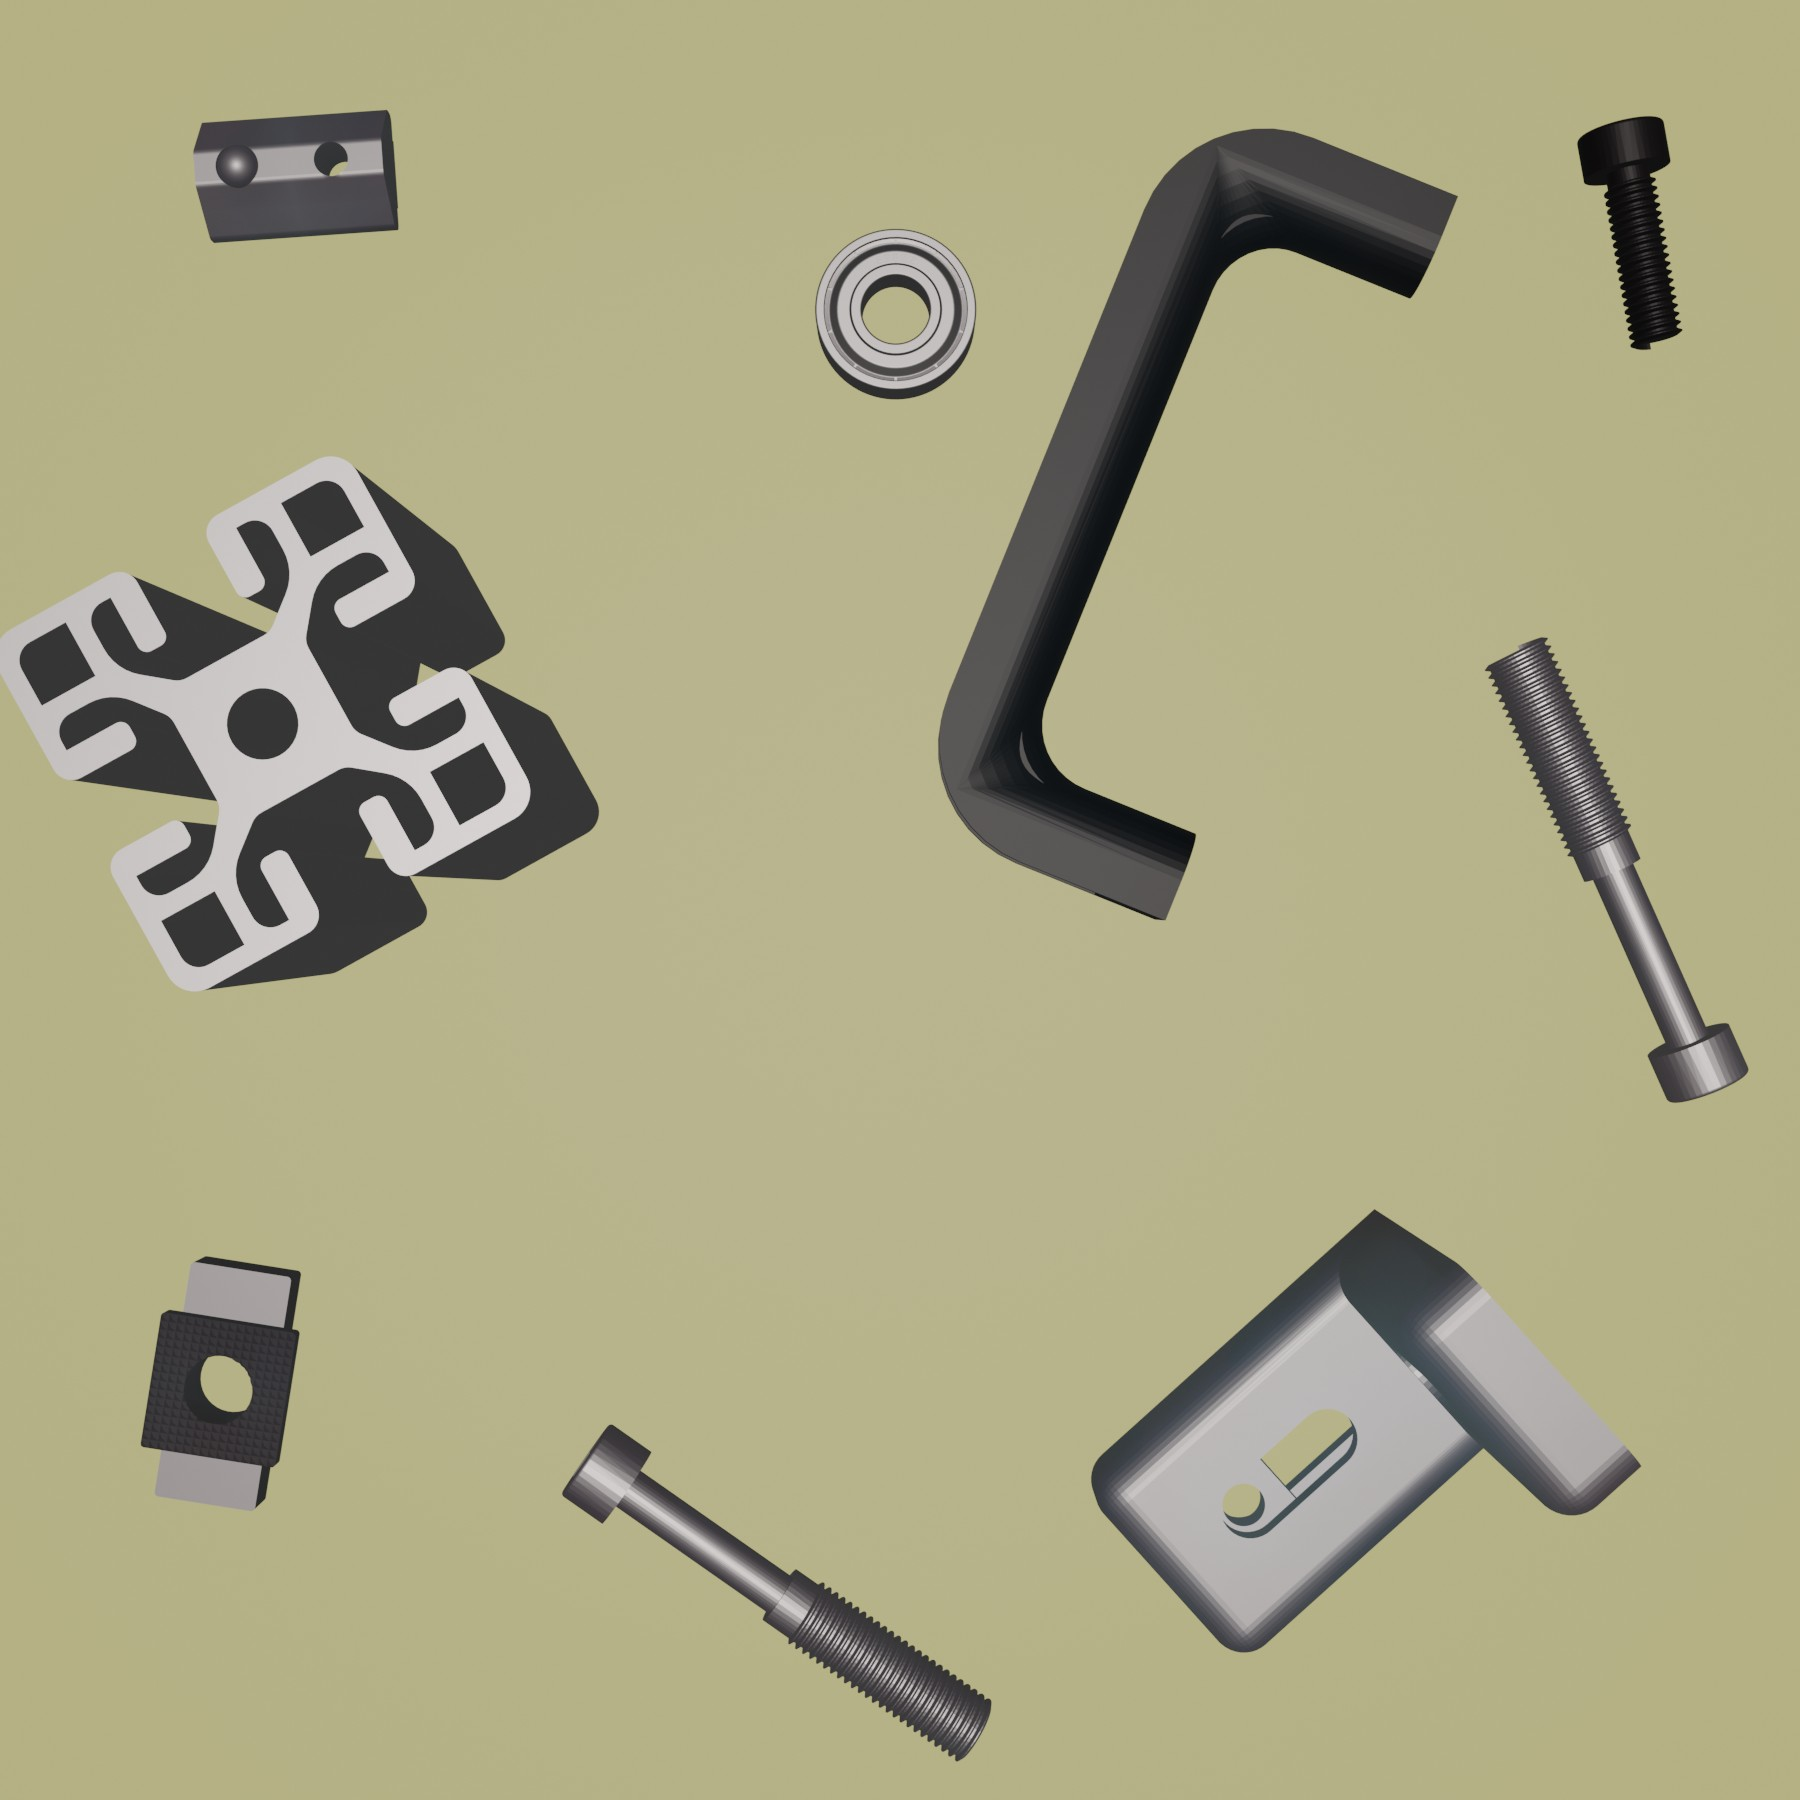Aluminium Extension: (2, 453, 602, 997)
Ball Bearing: (811, 223, 979, 401)
Multiwinkel: (1091, 1208, 1643, 1655)
Pull Handle: (936, 124, 1464, 923)
Shoulder Socket Head Cap Screw: (560, 1426, 992, 1765), (1479, 635, 1747, 1104)
Socket Head Cap Screw: (1574, 112, 1685, 358)
T Nut Square: (138, 1249, 305, 1513)
T Spring Nut: (190, 107, 401, 246)
